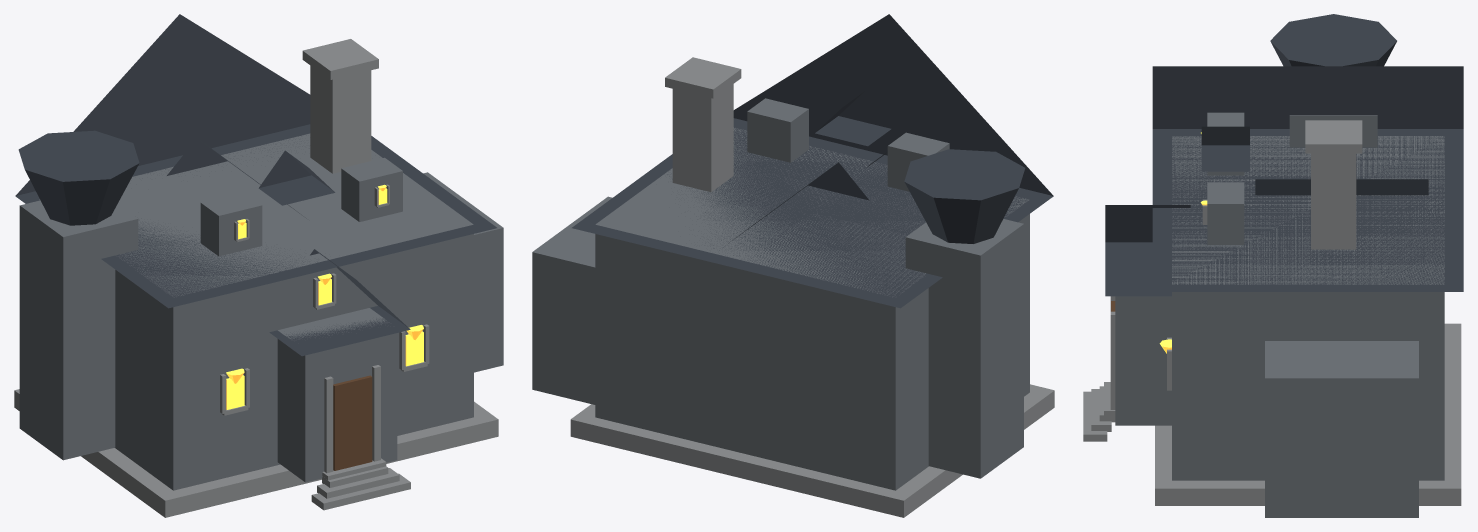
File: house_lv2.glb
3 views of the same model, side by side, from view 1: azimuth 30°, elevation 25°; view 2: azimuth 150°, elevation 25°; view 3: azimuth 270°, elevation 25° (orthographic).
Visible parts, largest first — view 1: Walls, Roof, Tower, Entry, Foundation, TowerRoof, Chimney, RearWing, Door, Dormer0, Dormer1, EntryRoof (+10 smaller); view 2: Walls, Roof, Tower, Foundation, RearWing, TowerRoof, Chimney, Dormer1, DormerRoof0, ChimneyCap, Dormer0, RearWingRoof; view 3: Roof, Walls, RearWing, Foundation, Entry, TowerRoof, EntryRoof, Chimney, Dormer1, DormerRoof0, RearWingRoof, ChimneyCap (+5 smaller).
Part boxes in pixels (x1,y1,x2,y2): Walls: (39,133,473,490); Roof: (15,14,496,308); Tower: (19,200,138,460); Entry: (277,308,397,482); Foundation: (14,389,498,517); TowerRoof: (18,130,139,225); Chimney: (310,65,371,173); RearWing: (423,172,503,372); Door: (333,375,372,470); Dormer0: (200,192,262,256); Dormer1: (341,157,402,221); EntryRoof: (269,249,410,356); Walls: (595,127,1029,490); Roof: (572,14,1053,308); Tower: (905,219,1023,478); Foundation: (570,384,1054,517); RearWing: (532,196,612,404); TowerRoof: (904,149,1025,243); Chimney: (672,84,733,192); Dormer1: (747,98,808,162); DormerRoof0: (815,91,891,146); ChimneyCap: (665,57,741,98); Dormer0: (887,132,949,191); RearWingRoof: (728,162,869,243); Roof: (1152,66,1463,291); Walls: (1172,136,1444,480); RearWing: (1265,341,1418,517); Foundation: (1155,323,1461,505); Entry: (1115,296,1171,425); TowerRoof: (1270,14,1396,66); EntryRoof: (1105,205,1190,296); Chimney: (1311,153,1356,249); Dormer1: (1207,182,1244,244); DormerRoof0: (1201,126,1249,171); RearWingRoof: (1255,179,1428,195); ChimneyCap: (1305,120,1362,153).
Size of the model in its own units: 10.83 by 8.19 by 7.91.
